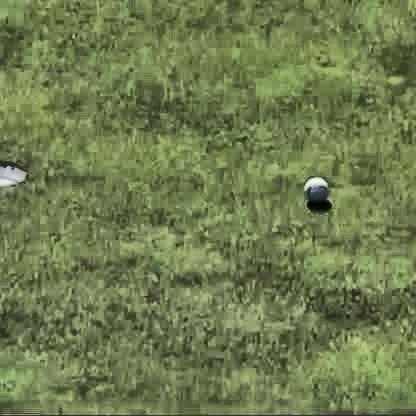golfball: (301, 171, 326, 199)
